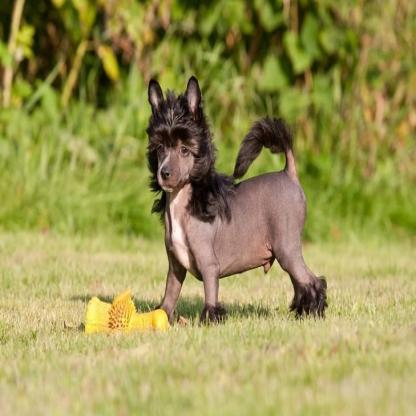Chinese Crested: (142, 70, 334, 364)
